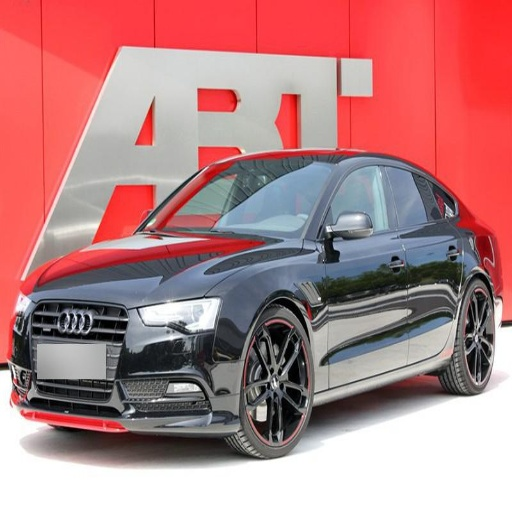back_glass: (388, 160, 462, 362)
back_right_light: (9, 294, 243, 432)
front_bumper: (140, 157, 332, 239)
front_glass: (321, 160, 408, 386)
front_left_door: (141, 296, 219, 334)
front_right_light: (25, 232, 295, 307)
trunk: (232, 305, 312, 458), (441, 280, 493, 394)
